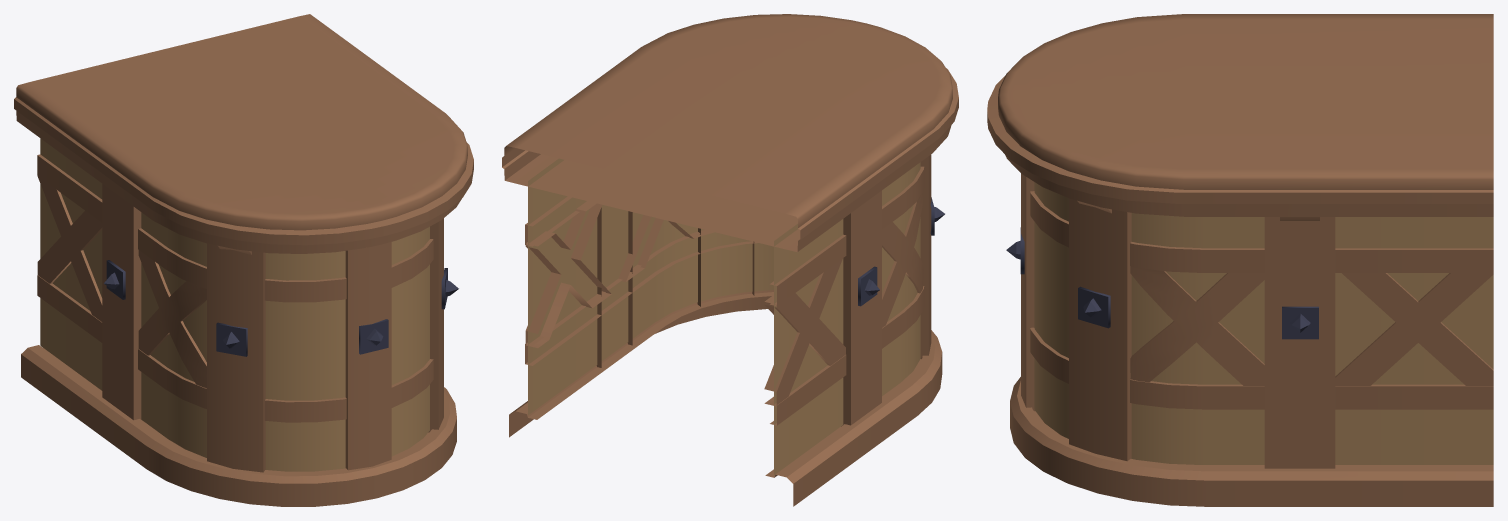
File: BarSide.fbx
3 renders of one model, left to right at view 1: azimuth 30°, elevation 25°; view 2: azimuth 150°, elevation 25°; view 3: azimuth 270°, elevation 25°, orthographic. The views are drawn at different scales.
Parts seen in each view (by area): view 1: BarSide; view 2: BarSide; view 3: BarSide.
Boxes of the visible parts, box(x1,y1,x2,y2) form: BarSide: box(14, 14, 473, 506); BarSide: box(502, 14, 958, 506); BarSide: box(987, 14, 1493, 506).
Bounding box in the file's own units: 1.73 × 1.61 × 2.22.
